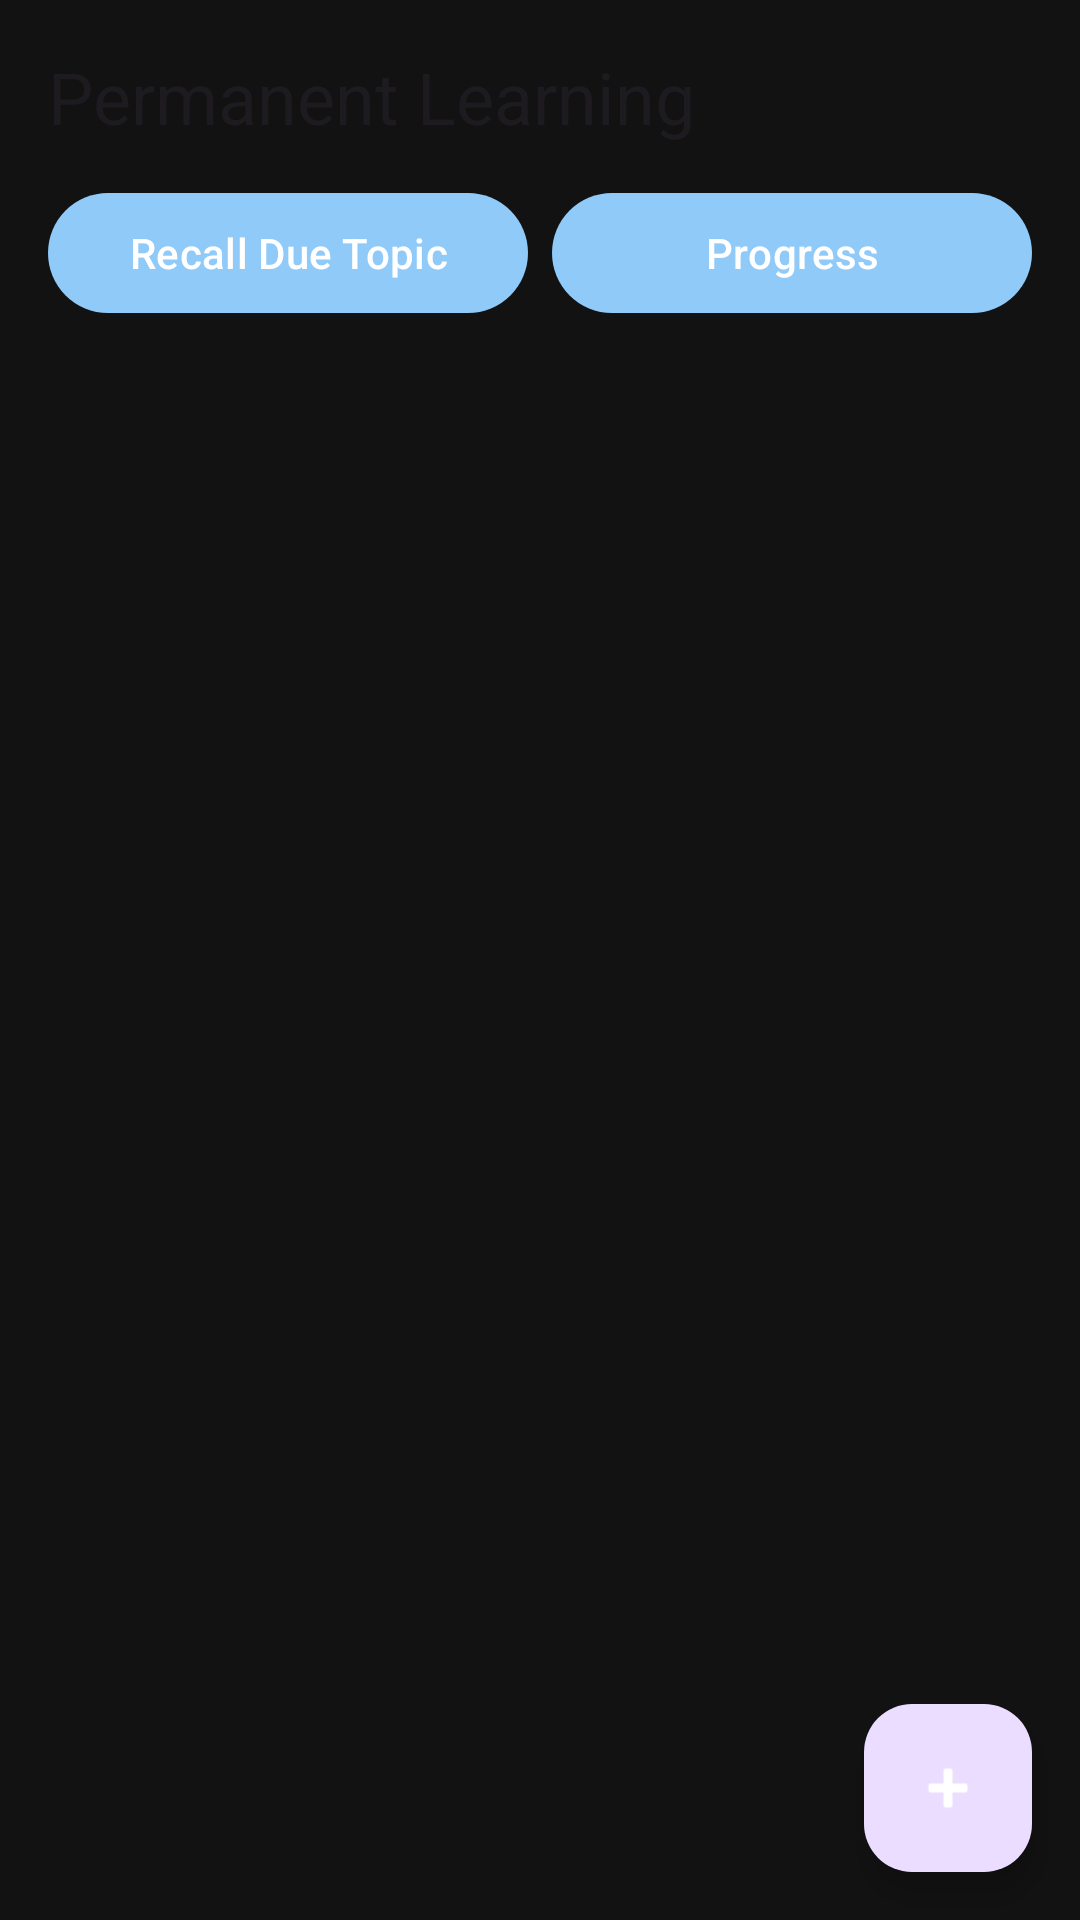

Icon click points for this 1080x1920 phone screenshot, format point (x, y):
Add topic: point (948, 1788)
